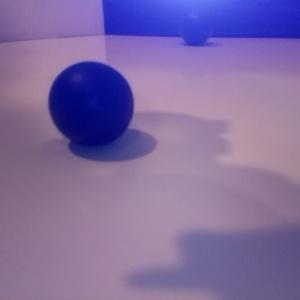dead_ball: (47, 59, 134, 146), (178, 6, 213, 44)
